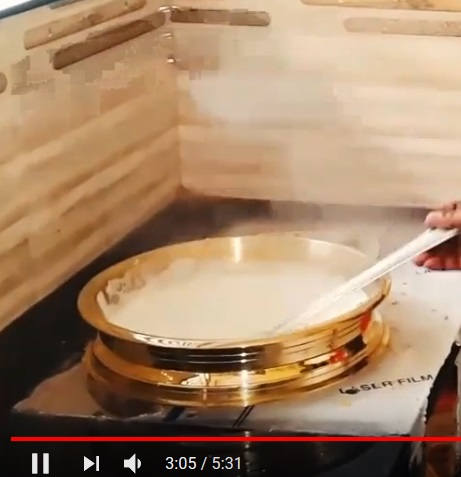Steaming: (70, 216, 421, 421)
